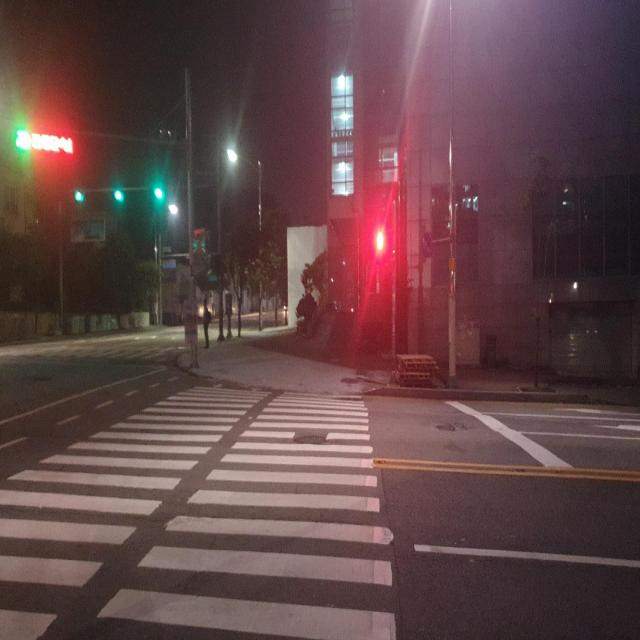빨간불: (373, 230, 390, 278)
횡단보도: (0, 377, 399, 640)
